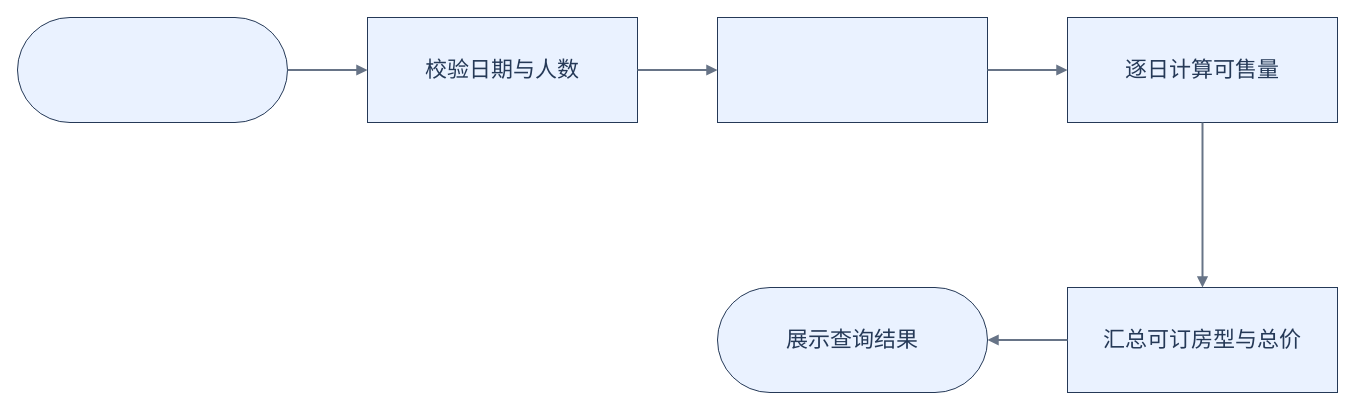
Image size: 1355x410. Some labels were removed from this diagram. Here are the shapes that lost their labels. From the top down, the box of each, then its label:
(16, 16, 288, 122): 选择入住和退房日期
(716, 16, 988, 122): 读取房型、日价、日库存
